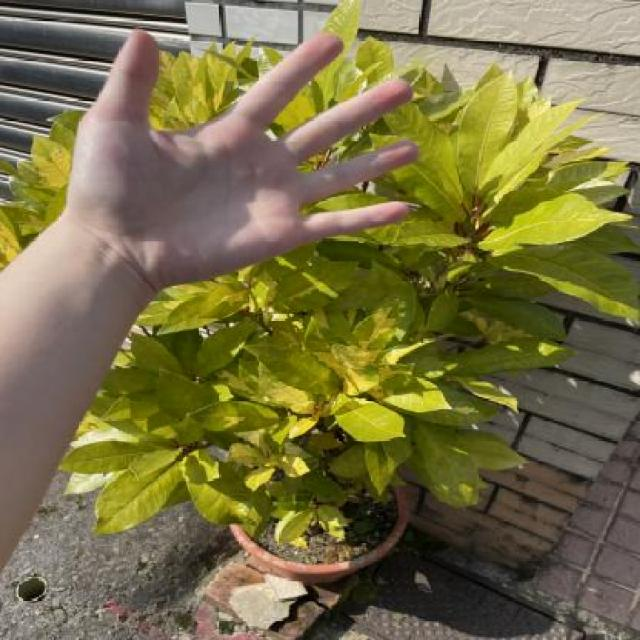no_glove: (48, 16, 441, 289)
